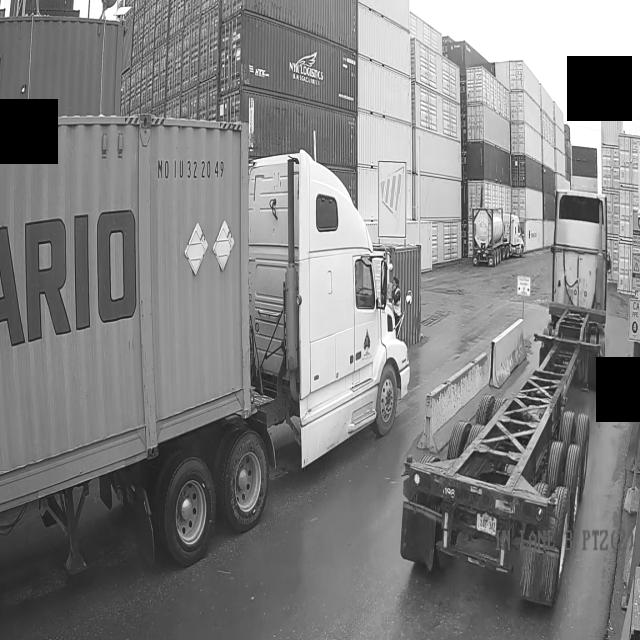container_side_no: (150, 161, 229, 183)
license_plate: (475, 512, 500, 535)
truck_with_container: (0, 113, 410, 570)
truck_without_container: (401, 191, 609, 605)
